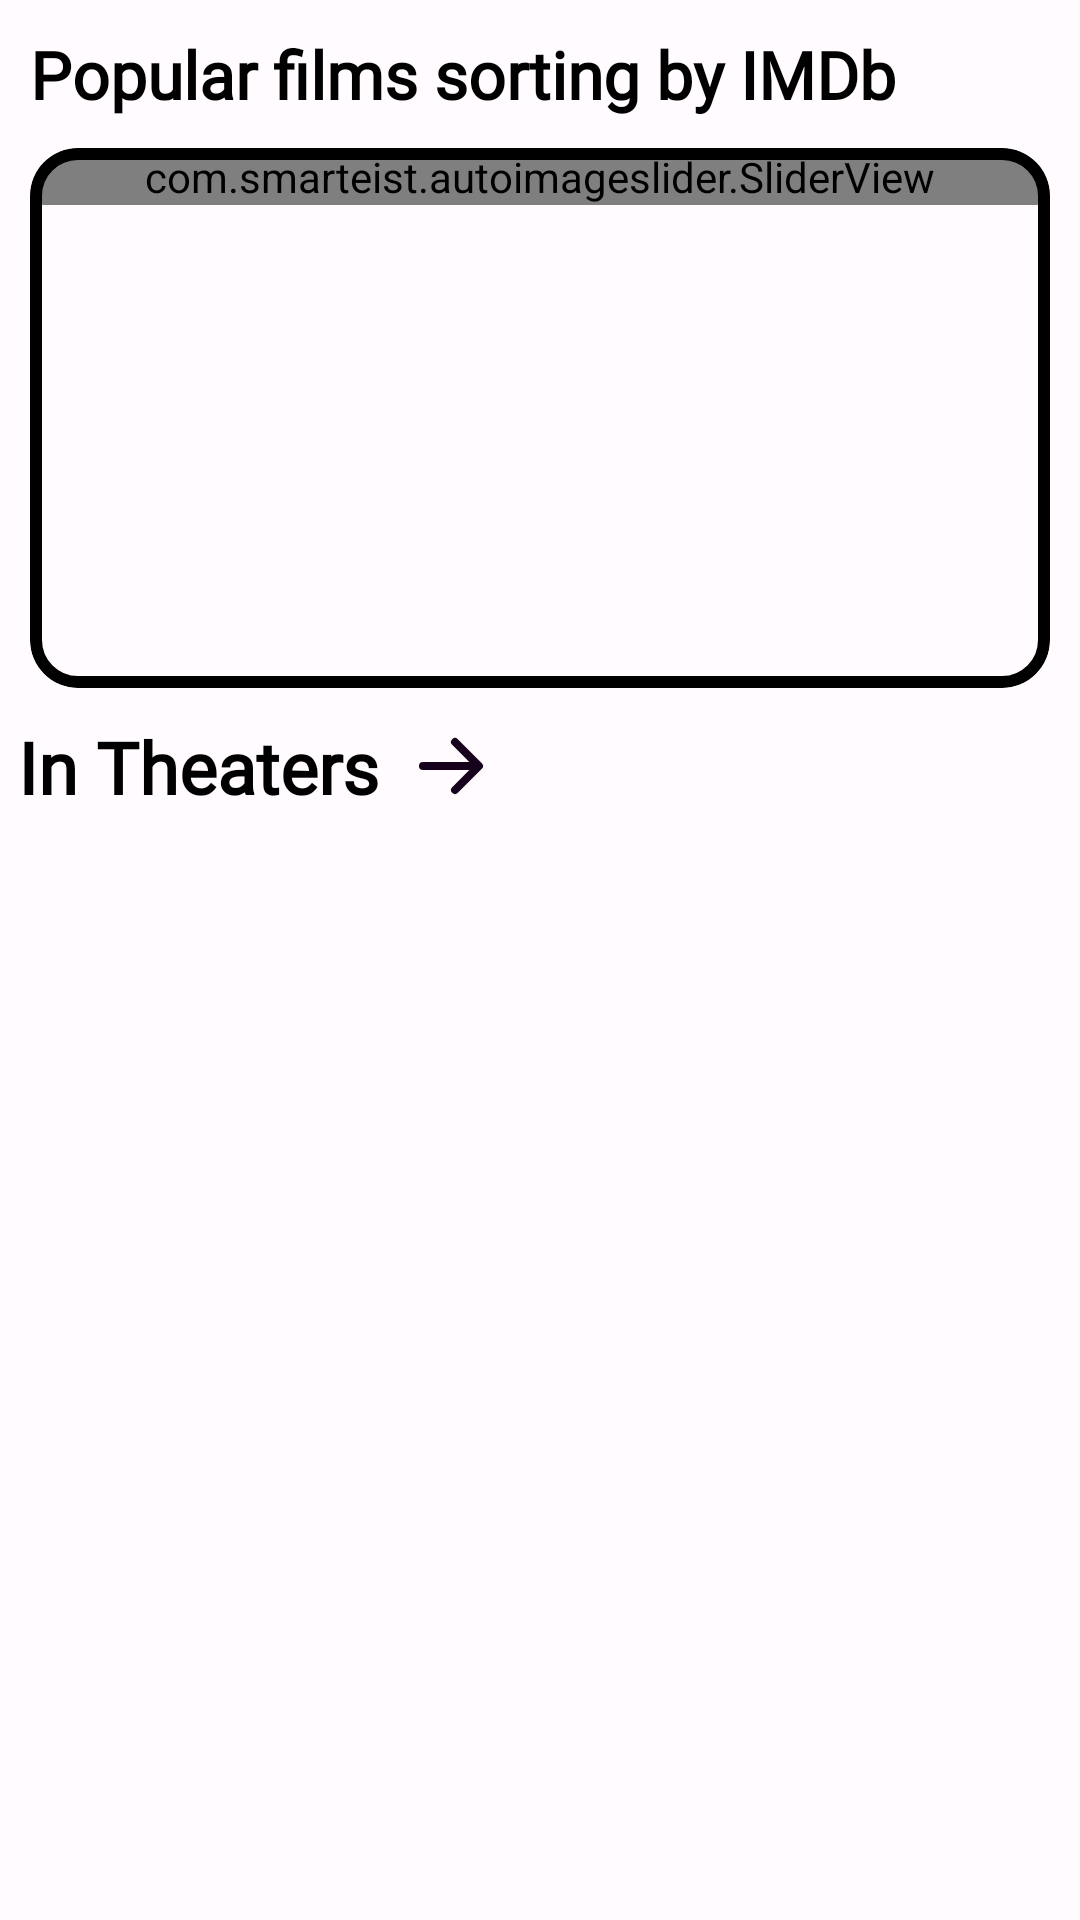

Where icons sit on this 1080 x 1920 app screen, as detection(x1, y1, x2, y2):
arrow right: detection(419, 737, 483, 795)
